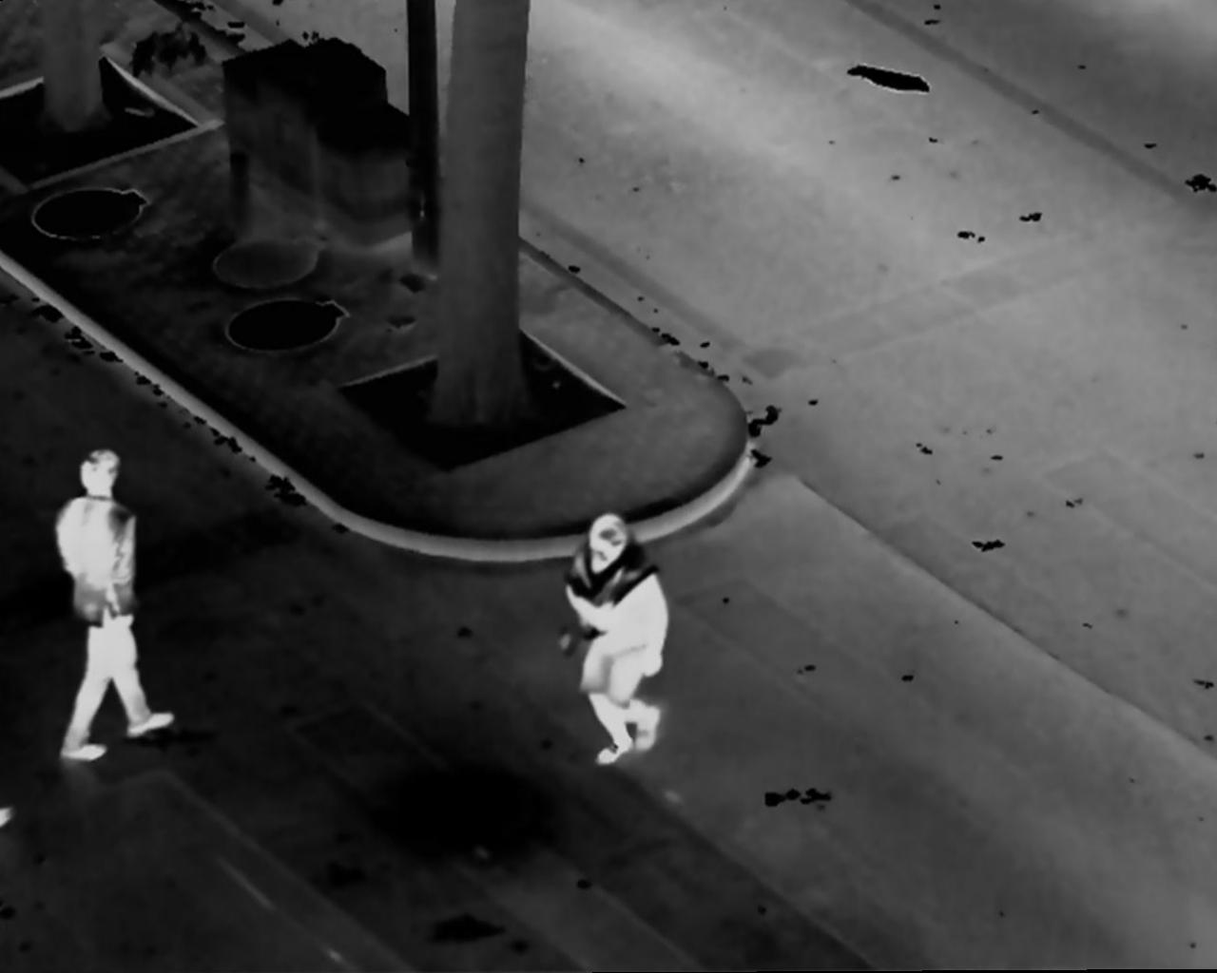person: (46, 446, 175, 769), (558, 510, 671, 767)
